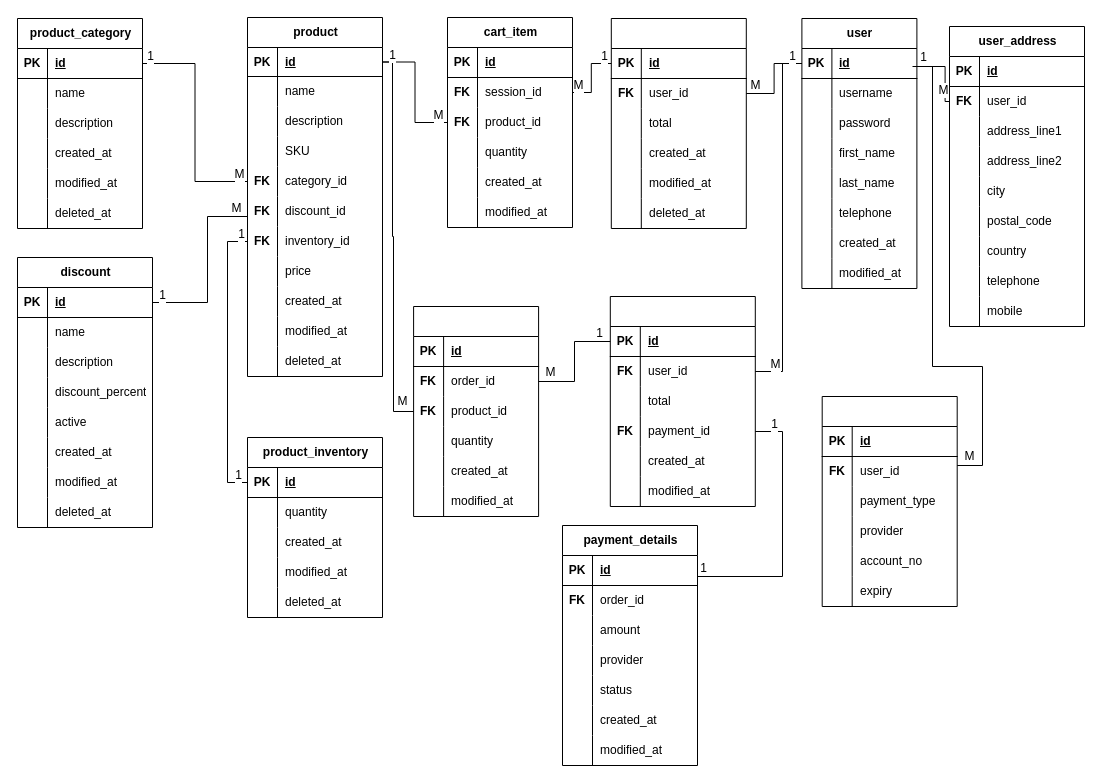
Some shapes in this 1102 by 783 pixel diagram are drawn without their labels. The shapes that lost their labels are listed below. From the top down, each one's box as (x1, y1, x2, y2) in pixels, then its label:
(610, 18, 746, 228): shopping_session
(413, 306, 539, 516): order_items
(609, 296, 755, 506): order_details
(821, 396, 957, 606): user_payment
